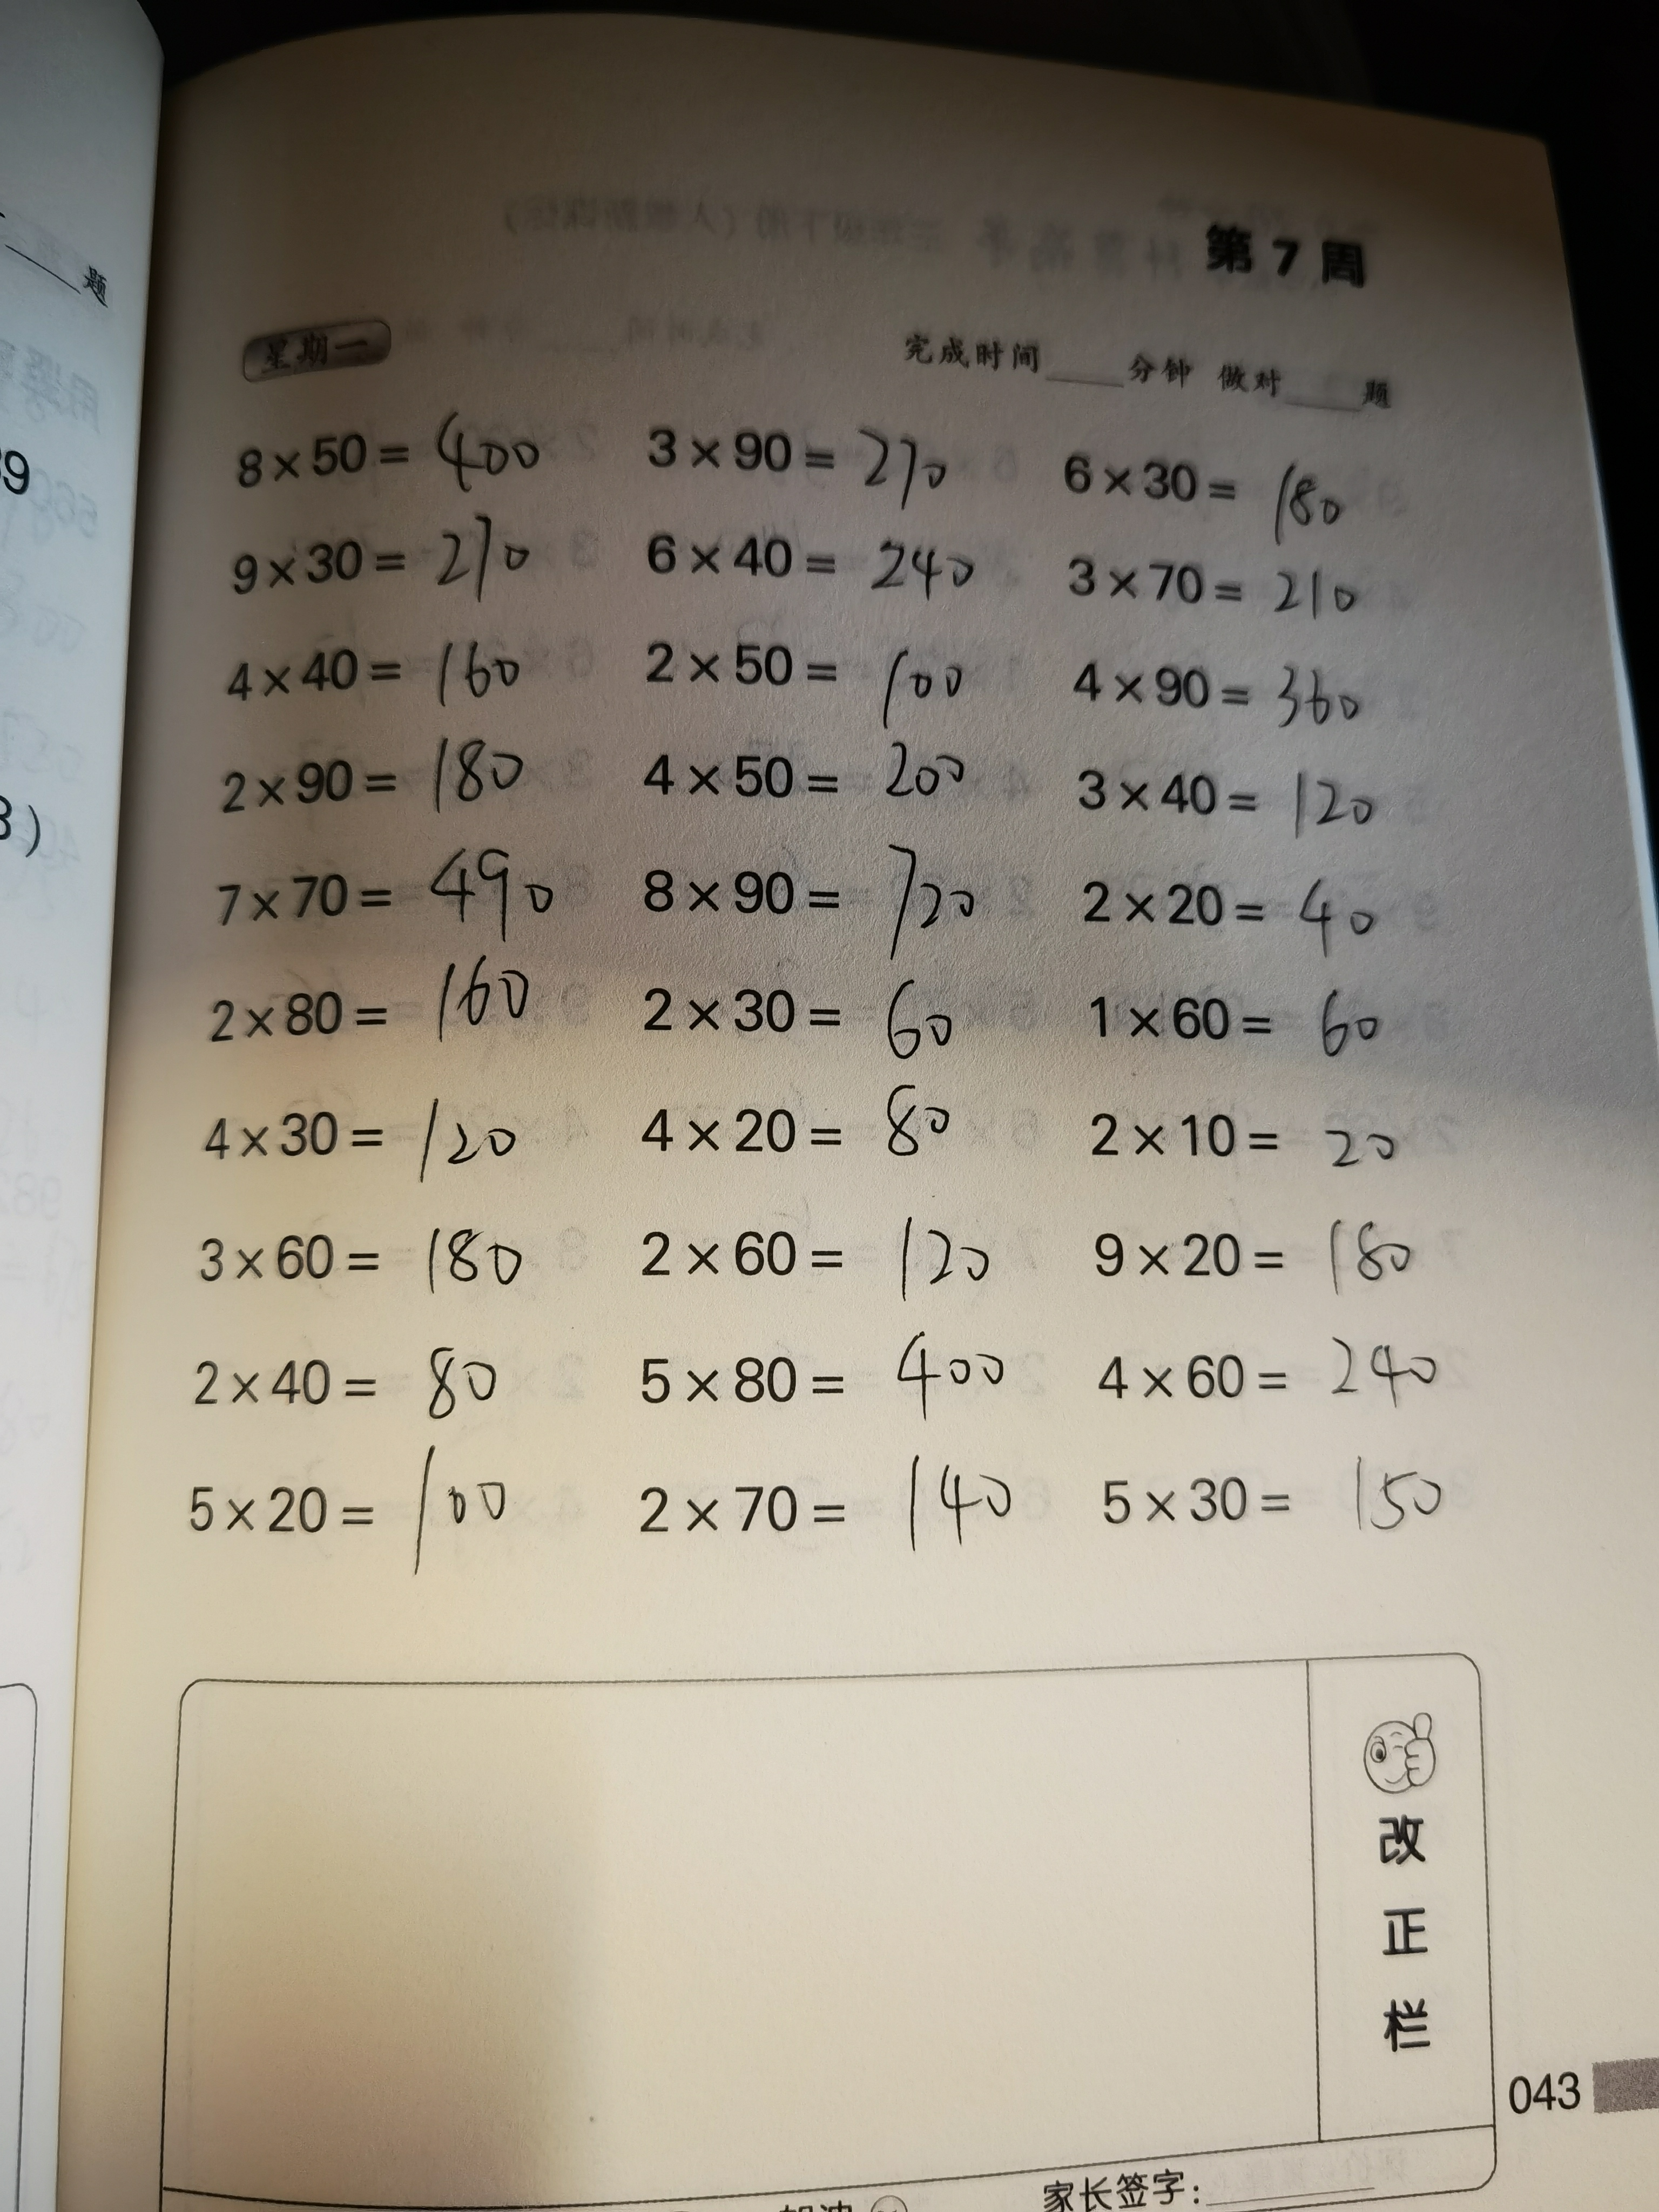equation: (148, 1449, 608, 1587), (631, 824, 1009, 968), (166, 1061, 586, 1188), (1080, 1202, 1516, 1318), (162, 1331, 573, 1453), (1053, 1294, 1443, 1420), (1044, 420, 1385, 561), (188, 840, 587, 960), (587, 1204, 1021, 1310), (610, 946, 1009, 1061), (1094, 1444, 1520, 1550), (641, 1066, 990, 1195), (598, 1442, 1033, 1545), (610, 1320, 1042, 1421), (145, 1200, 545, 1308), (223, 387, 558, 514), (629, 399, 971, 519), (190, 718, 558, 824), (634, 615, 995, 723), (1073, 860, 1457, 961), (204, 949, 558, 1057), (1086, 1076, 1408, 1195), (1065, 745, 1410, 855), (1060, 960, 1427, 1059), (633, 733, 1023, 826), (641, 510, 999, 610), (221, 617, 544, 716), (1054, 538, 1378, 631), (200, 519, 544, 604), (1054, 650, 1392, 733)
